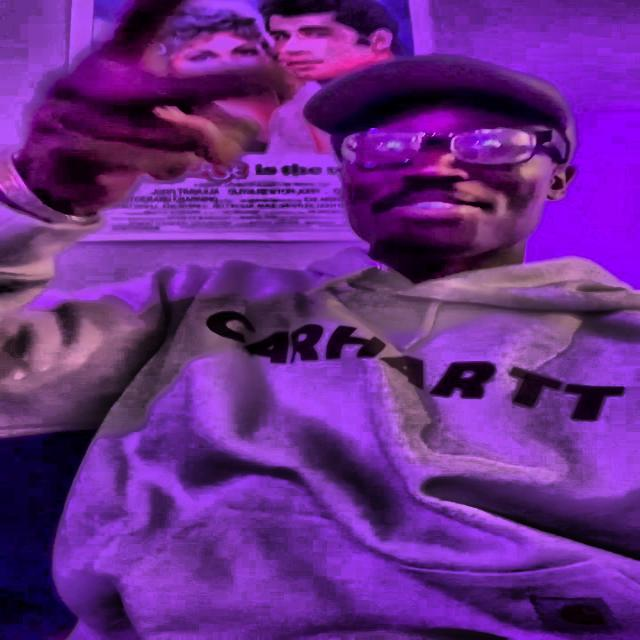not-gloved: (23, 0, 286, 215)
